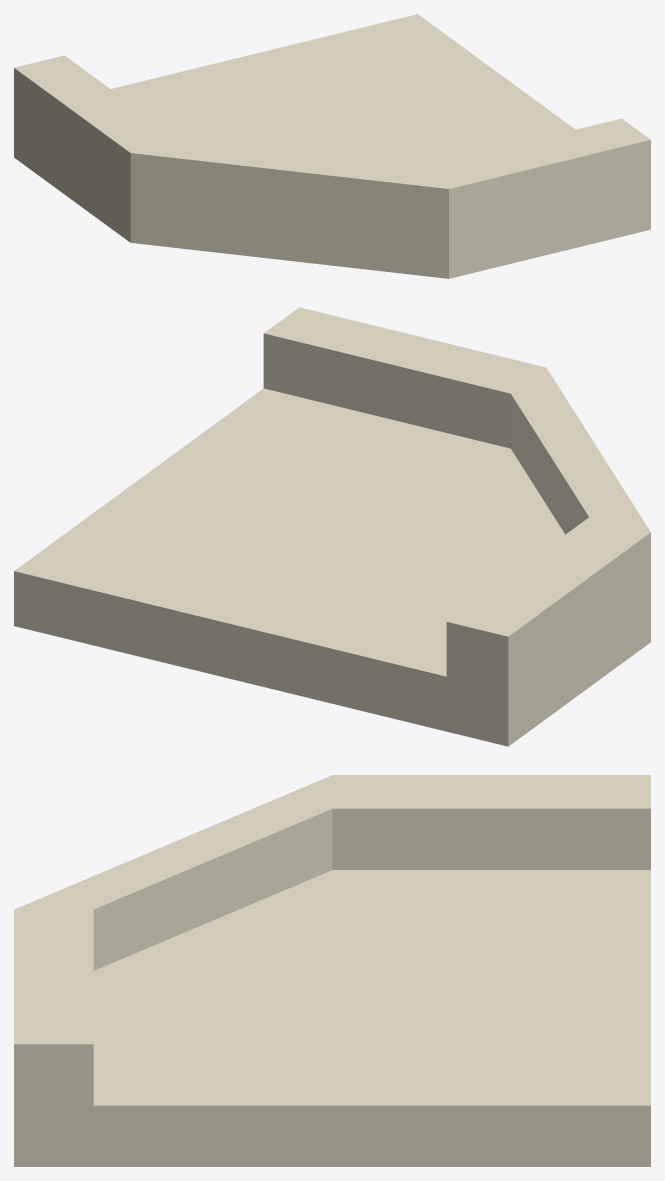
Rendered from modularBuildings_006.fbx.
3 renders of one model, top to bottom at view 1: azimuth 30°, elevation 25°; view 2: azimuth 150°, elevation 25°; view 3: azimuth 270°, elevation 25°, orthographic. The views are drawn at different scales.
Parts seen in each view (by area): view 1: Mesh1 Group1 Model; view 2: Mesh1 Group1 Model; view 3: Mesh1 Group1 Model.
Part boxes in pixels (bbox=[...]): Mesh1 Group1 Model: bbox=[14, 14, 650, 278]; Mesh1 Group1 Model: bbox=[14, 307, 650, 746]; Mesh1 Group1 Model: bbox=[14, 775, 650, 1166].
Bounding box in the file's own units: 1 × 0.2125 × 1.
